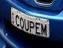C: (15, 14, 20, 27)
E: (35, 22, 41, 35)
M: (41, 23, 48, 36)
O: (20, 17, 24, 29)
P: (30, 20, 34, 33)
U: (24, 18, 30, 32)
